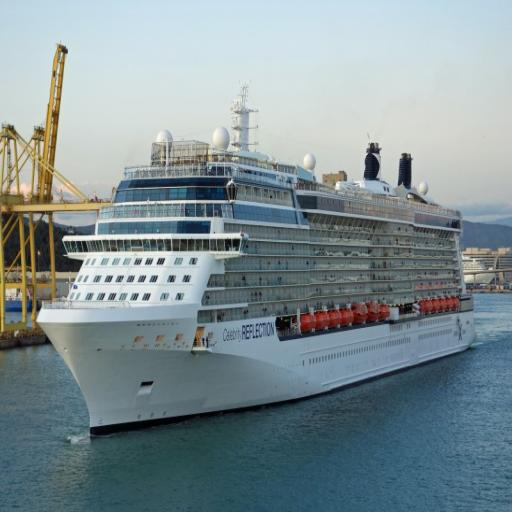cruises: (35, 77, 485, 442)
